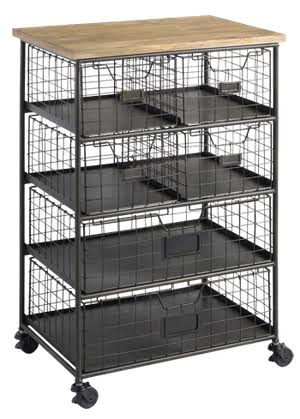Carts: (10, 14, 296, 411)
